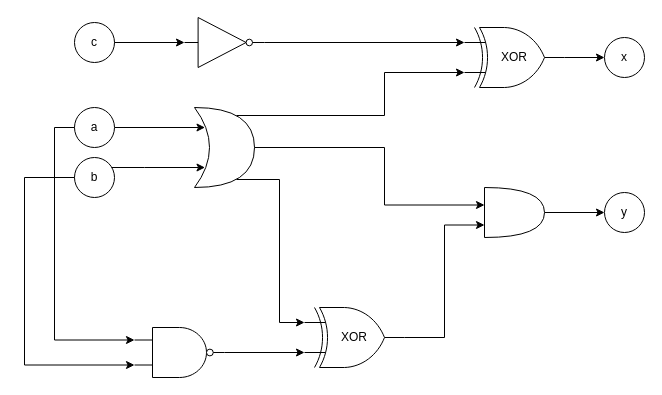
Some shapes in this 662 by 395 pixel diagram are drawn without their labels. The centre of each missing label's shape, as x and y in pixels:
AND: point (514, 212)
NAND: point (179, 352)
NOT: point (224, 42)
OR: point (224, 147)
